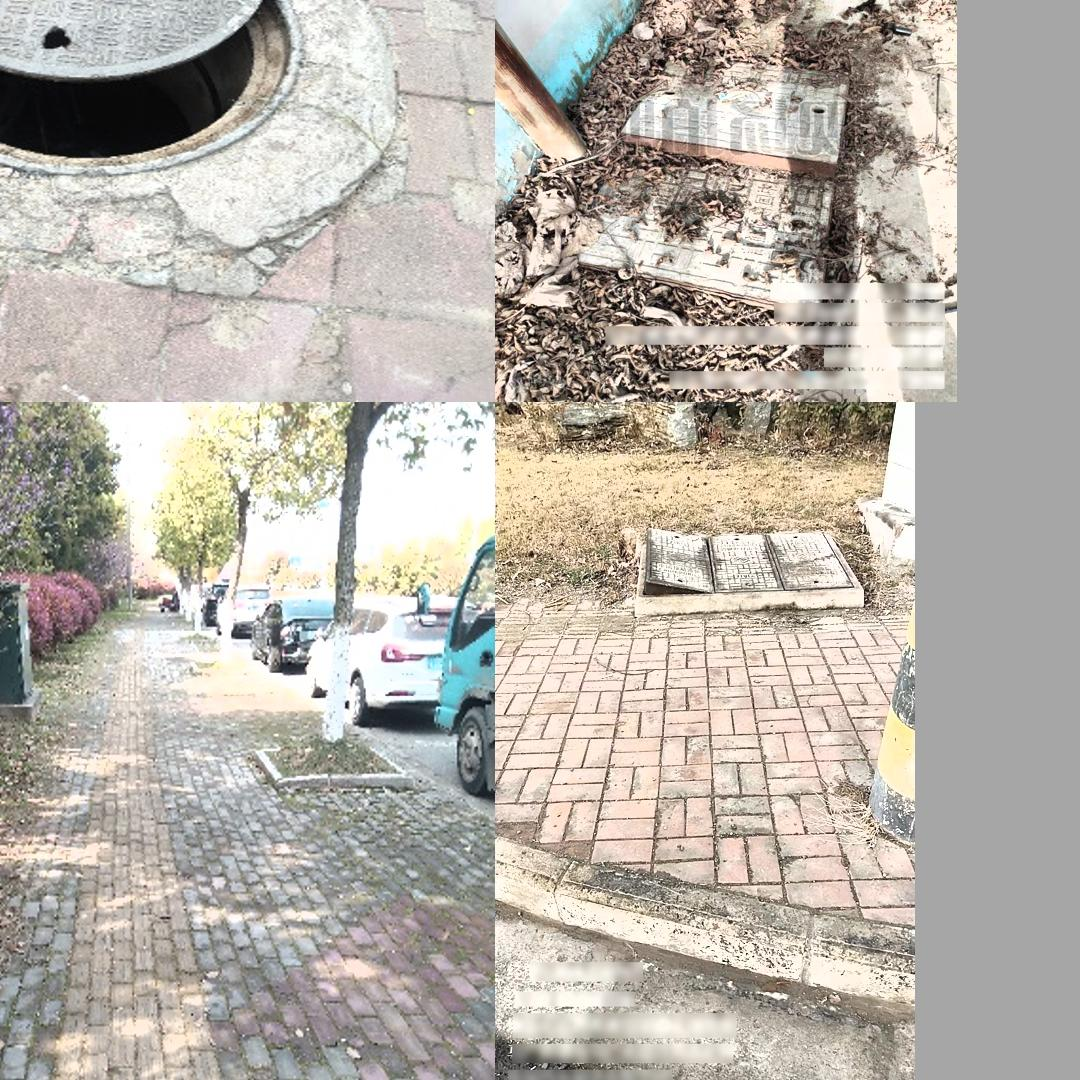uncovered: (572, 57, 852, 309), (0, 0, 303, 178), (635, 524, 867, 602)
